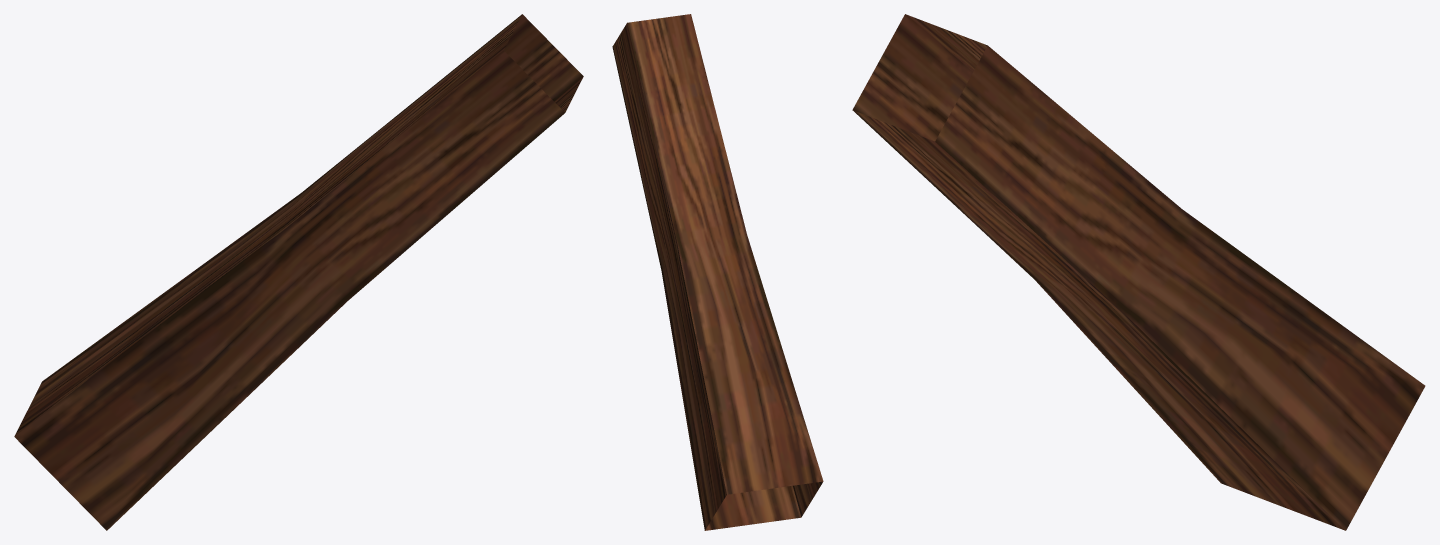
Rendered from OVERHILL_A_01_POST35.fbx.
3 renders of one model, left to right at view 1: azimuth 30°, elevation 25°; view 2: azimuth 150°, elevation 25°; view 3: azimuth 270°, elevation 25°, orthographic. The views are drawn at different scales.
Visible parts, largest first — view 1: OVERHILL_A_01_POST35; view 2: OVERHILL_A_01_POST35; view 3: OVERHILL_A_01_POST35.
Boxes of the visible parts, x1,y1,x2,y2 form: OVERHILL_A_01_POST35: (14, 14, 583, 530); OVERHILL_A_01_POST35: (612, 14, 823, 530); OVERHILL_A_01_POST35: (852, 14, 1425, 530).
Size of the model in its own units: 6140 by 7005 by 5725.
1 material, 1 textured.
